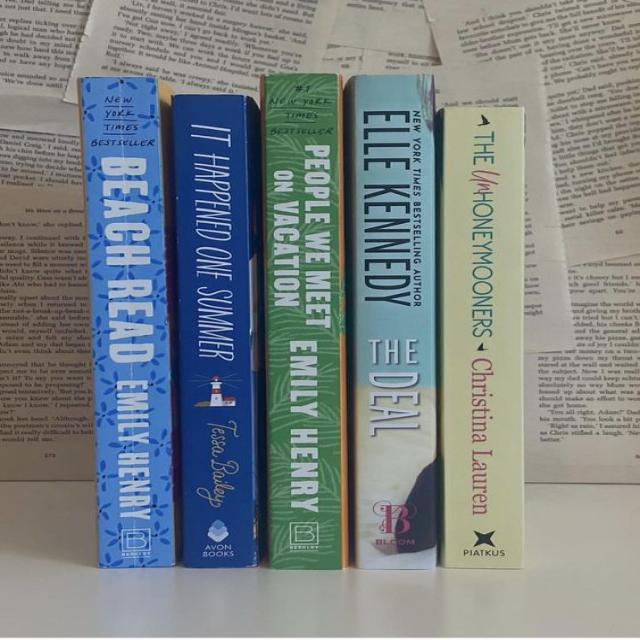book: (344, 75, 437, 569), (81, 76, 174, 568), (261, 73, 344, 569), (172, 94, 259, 567), (435, 107, 524, 568)
